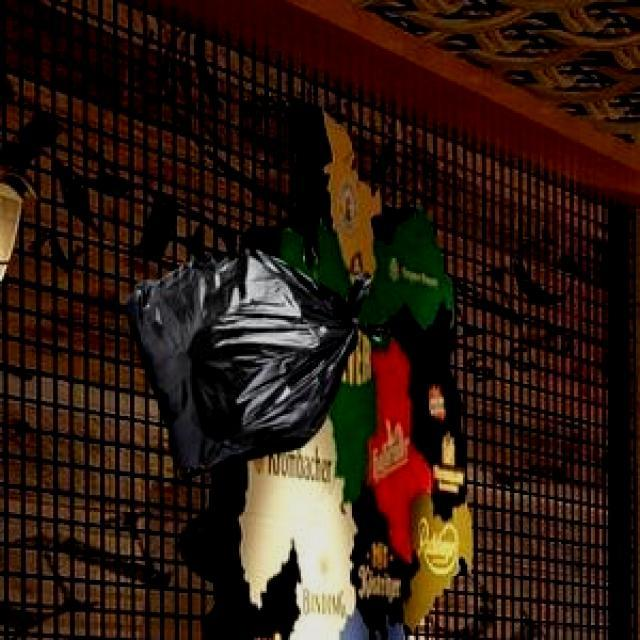Trashbag: (117, 246, 383, 487)
